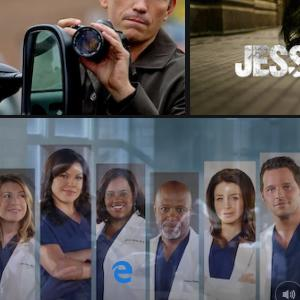edge: (112, 260, 133, 283)
